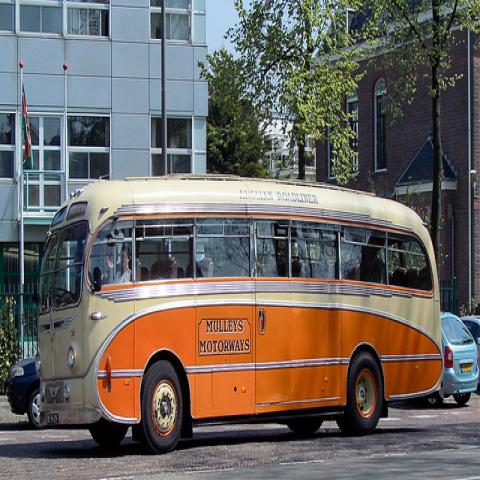bus: (36, 178, 444, 454)
car: (425, 311, 479, 409), (6, 354, 41, 430), (459, 315, 479, 396)
